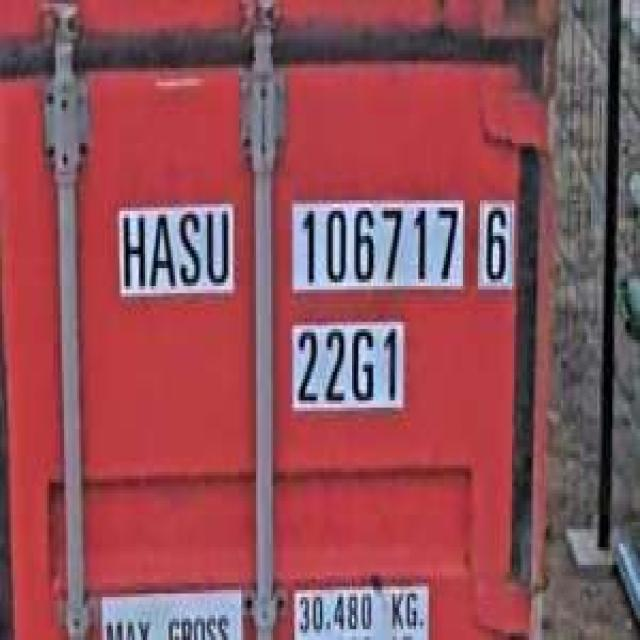dv: (476, 190, 514, 290)
owner: (115, 200, 235, 297)
serial: (290, 196, 463, 296)
size: (286, 318, 405, 415)
